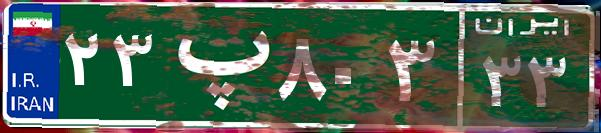0: (330, 28, 385, 110)
2: (57, 26, 110, 107)
3: (385, 28, 445, 110), (475, 38, 525, 113), (110, 28, 158, 105), (525, 38, 570, 115)
8: (273, 28, 330, 110)
پ: (158, 15, 273, 115)
